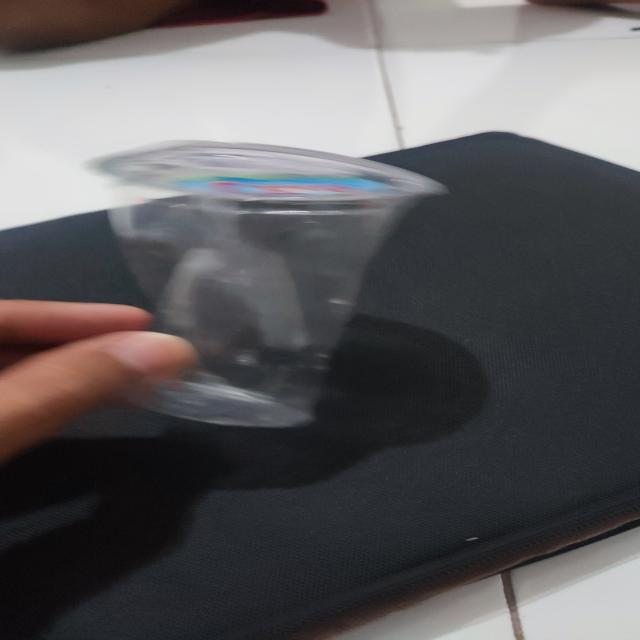air-gelas-rusak: (80, 127, 453, 446)
